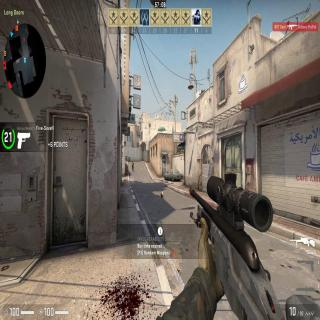T-Body: (131, 159, 135, 172)
T-Head: (132, 160, 134, 162)
